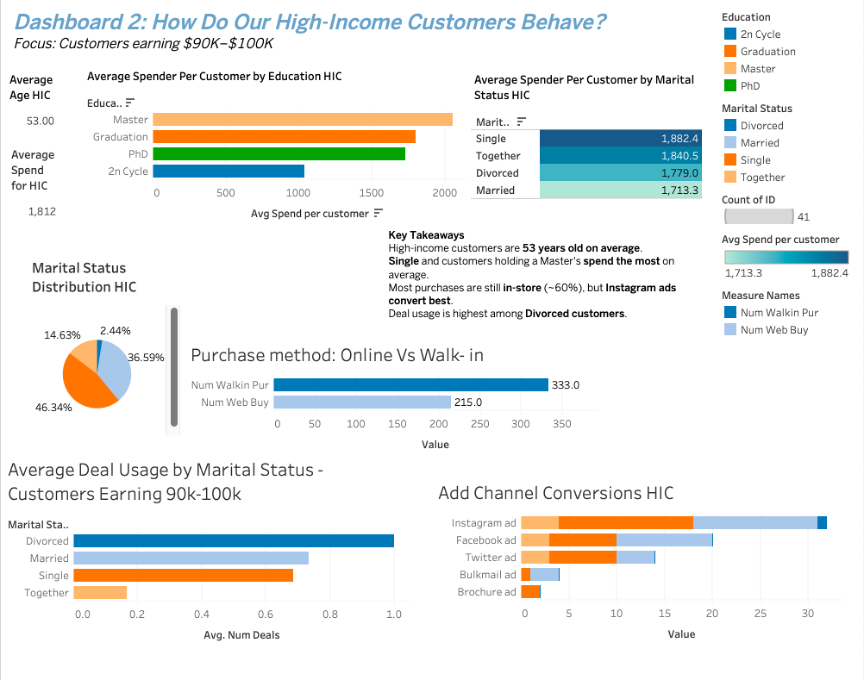

What the dashboard file says about the page in this screenshot:
{"tool":"tableau","page":{"name":"Dashboard 2:Campaign & High IncomeCustomers","canvas":[1000,800],"ordinal":1},"visuals":[{"type":"title","box":[8,8,824,58]},{"type":"legend","title":"Average Spender Per customer","param":"[federated.0yin0b90ktfr8m1gxv2eo0gaev91].[none:Education:nk]","box":[832,8,160,106]},{"type":"blank","box":[8,66,824,726]},{"type":"worksheet","title":"Average Spender Per customer","mark":"Automatic","rows":["Education"],"cols":["Calculation_1791095707500560391"],"box":[96,76,445,210]},{"type":"worksheet","title":"Sheet 19","mark":"Automatic","box":[6,80,176,97]},{"type":"worksheet","title":"Average Spender Per customer by Marital Status HIC","mark":"Square","rows":["Marital_Status"],"box":[545,80,269,165]},{"type":"legend","title":"Marital Status Distribution- $90K-$100K","param":"[federated.0yin0b90ktfr8m1gxv2eo0gaev91].[none:Marital_Status:nk]","box":[832,114,160,106]},{"type":"worksheet","title":"Average Spend for $90- $100","mark":"Automatic","box":[8,167,102,110]},{"type":"legend","title":"Marital Status Distribution- $90K-$100K","param":"[federated.0yin0b90ktfr8m1gxv2eo0gaev91].[cnt:ID:qk]","box":[832,220,160,46]},{"type":"text","box":[447,263,341,119]},{"type":"legend","title":"Average Spender Per customer by Marital Status HIC","param":"[federated.0yin0b90ktfr8m1gxv2eo0gaev91].[usr:Calculation_1791095707500560391:qk","box":[832,266,160,65]},{"type":"worksheet","title":"Marital Status Distribution- $90K-$100K","mark":"Pie","box":[32,296,285,210]},{"type":"legend","title":"Online Vs Walk-in Purchases for customers earning 90K-100K ","param":"[federated.0yin0b90ktfr8m1gxv2eo0gaev91].[:Measure Names]","box":[832,331,160,66]},{"type":"worksheet","title":"Online Vs Walk-in Purchases for customers earning 90K-100K ","mark":"Automatic","box":[216,394,476,182]},{"type":"worksheet","title":"Average Deal Usage by Marital Status - Customers Earning 90k-100k","mark":"Automatic","rows":["Marital_Status"],"cols":["NumDeals"],"box":[4,527,471,266]}]}

Visuals, with their boxes in screenshot pixels (x1, y1, x2, y2), scaled from the page's 1000x800 canvas onto the 864x680 screenshot:
title: x1=7 y1=7 x2=719 y2=56
"Average Spender Per customer" legend: x1=719 y1=7 x2=857 y2=97
blank: x1=7 y1=56 x2=719 y2=673
"Average Spender Per customer" worksheet: x1=83 y1=65 x2=467 y2=243
"Sheet 19" worksheet: x1=5 y1=68 x2=157 y2=150
"Average Spender Per customer by Marital Status HIC" worksheet (Square marks): x1=471 y1=68 x2=703 y2=208
"Marital Status Distribution- $90K-$100K" legend: x1=719 y1=97 x2=857 y2=187
"Average Spend for $90- $100" worksheet: x1=7 y1=142 x2=95 y2=235
"Marital Status Distribution- $90K-$100K" legend: x1=719 y1=187 x2=857 y2=226
text: x1=386 y1=224 x2=681 y2=325
"Average Spender Per customer by Marital Status HIC" legend: x1=719 y1=226 x2=857 y2=281
"Marital Status Distribution- $90K-$100K" worksheet (Pie marks): x1=28 y1=252 x2=274 y2=430
"Online Vs Walk-in Purchases for customers earning 90K-100K " legend: x1=719 y1=281 x2=857 y2=337
"Online Vs Walk-in Purchases for customers earning 90K-100K " worksheet: x1=187 y1=335 x2=598 y2=490
"Average Deal Usage by Marital Status - Customers Earning 90k-100k" worksheet: x1=3 y1=448 x2=410 y2=674
